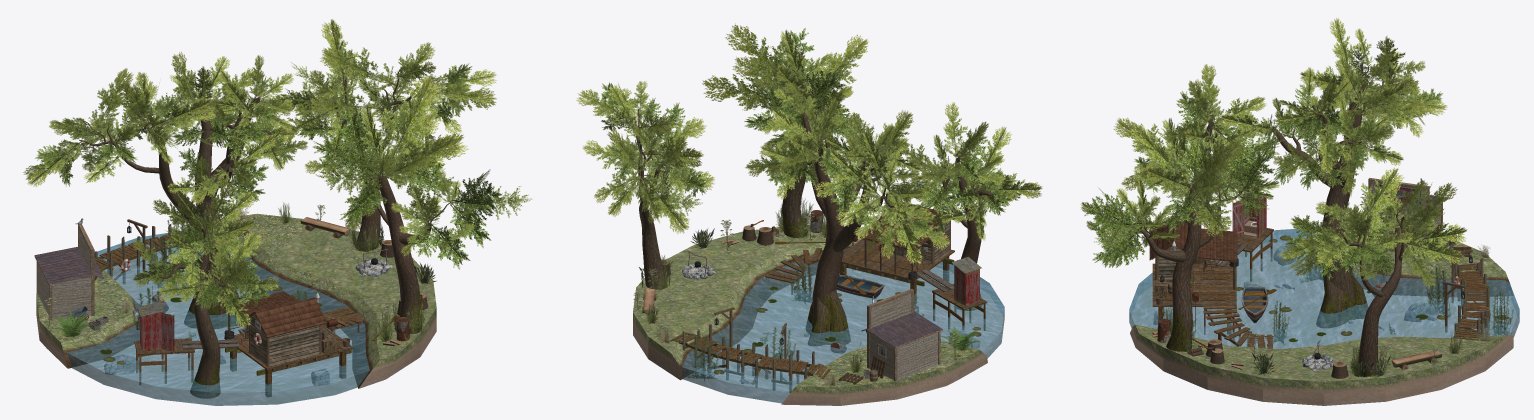
The picture shows the model from 3 angles, left to right: view 1: azimuth 30°, elevation 25°; view 2: azimuth 150°, elevation 25°; view 3: azimuth 270°, elevation 25°; orthographic projection. The views are drawn at different scales.
Visible parts, largest first — view 1: BigTree_01_geo, Tree_01_geo, Water_01_geo, IslandBig_01_geo, Tree_02_geo, Tree_03_geo, Ground_01_geo, IslandSmall_01_geo, Plants_01_geo, MainHouseBovensteDak_01_geo, MainHouseWall_01_geo, OldShopWalls_01_geo (+12 smaller); view 2: BigTree_01_geo, Water_01_geo, IslandBig_01_geo, Tree_03_geo, Ground_01_geo, Tree_01_geo, Tree_02_geo, IslandSmall_01_geo, Plants_01_geo, OldShopWalls_01_geo, Bridge_01_geo, MainHousePlatform_01_geo (+15 smaller); view 3: BigTree_01_geo, Water_01_geo, Tree_01_geo, IslandBig_01_geo, Tree_03_geo, Ground_01_geo, Tree_02_geo, Plants_01_geo, IslandSmall_01_geo, Bridge_01_geo, MainHousePlatform_01_geo, MainHouseBovensteDak_01_geo (+14 smaller).
Part boxes in pixels (x1,y1,x2,y2): BigTree_01_geo: [23, 52, 307, 328]; Tree_01_geo: [305, 74, 531, 334]; Water_01_geo: [67, 230, 369, 405]; IslandBig_01_geo: [221, 213, 436, 388]; Tree_02_geo: [132, 179, 279, 398]; Tree_03_geo: [268, 19, 496, 250]; Ground_01_geo: [72, 247, 357, 405]; IslandSmall_01_geo: [36, 267, 140, 368]; Plants_01_geo: [42, 203, 436, 342]; MainHouseBovensteDak_01_geo: [224, 291, 327, 337]; MainHouseWall_01_geo: [250, 315, 319, 365]; OldShopWalls_01_geo: [38, 229, 90, 319]; BigTree_01_geo: [745, 82, 950, 345]; Water_01_geo: [681, 249, 1004, 403]; IslandBig_01_geo: [633, 225, 864, 380]; Tree_03_geo: [576, 81, 714, 289]; Ground_01_geo: [683, 267, 1004, 403]; Tree_01_geo: [702, 23, 868, 237]; Tree_02_geo: [891, 102, 1042, 310]; IslandSmall_01_geo: [781, 341, 987, 405]; Plants_01_geo: [633, 198, 962, 385]; OldShopWalls_01_geo: [869, 293, 937, 379]; Bridge_01_geo: [669, 247, 848, 384]; MainHousePlatform_01_geo: [841, 239, 954, 280]; BigTree_01_geo: [1220, 18, 1447, 327]; Water_01_geo: [1129, 228, 1519, 348]; Tree_01_geo: [1080, 122, 1279, 351]; IslandBig_01_geo: [1130, 324, 1513, 405]; Tree_03_geo: [1277, 167, 1466, 376]; Ground_01_geo: [1129, 242, 1519, 348]; Tree_02_geo: [1113, 64, 1279, 263]; Plants_01_geo: [1165, 193, 1513, 376]; IslandSmall_01_geo: [1321, 222, 1512, 296]; Bridge_01_geo: [1203, 263, 1489, 348]; MainHousePlatform_01_geo: [1152, 263, 1236, 306]; MainHouseBovensteDak_01_geo: [1149, 216, 1237, 261].
Bounding box in the file's own units: 0.4817 × 0.28 × 0.4212.
